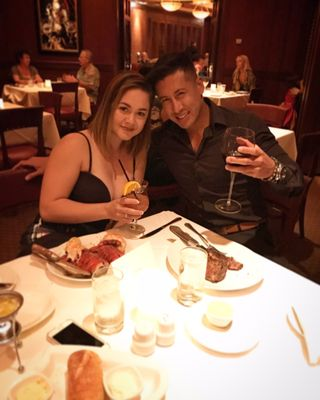burger: (286, 304, 319, 368)
pizza: (92, 265, 125, 335), (177, 246, 208, 307), (130, 317, 157, 357), (155, 312, 177, 348)
sandwich: (33, 247, 93, 277), (138, 217, 182, 238)
